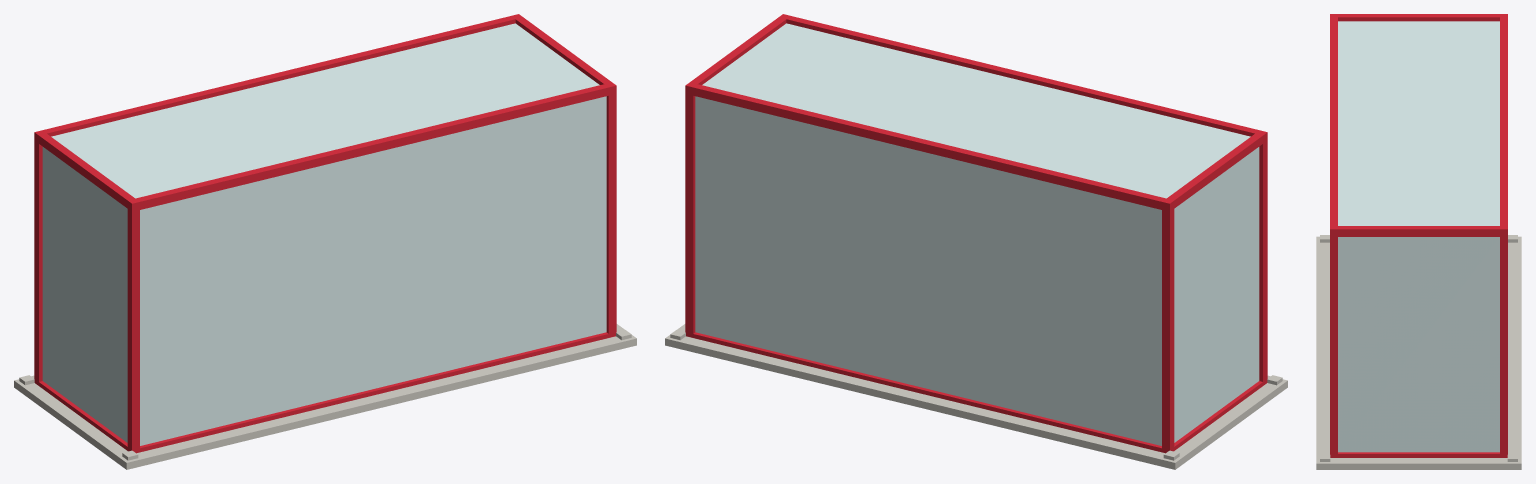
Rendered from ural-4320-kemper.glb.
3 renders of one model, left to right at view 1: azimuth 30°, elevation 25°; view 2: azimuth 150°, elevation 25°; view 3: azimuth 270°, elevation 25°, orthographic. The views are drawn at different scales.
Bounding box in the file's own units: 0.455 × 0.2195 × 0.174.
